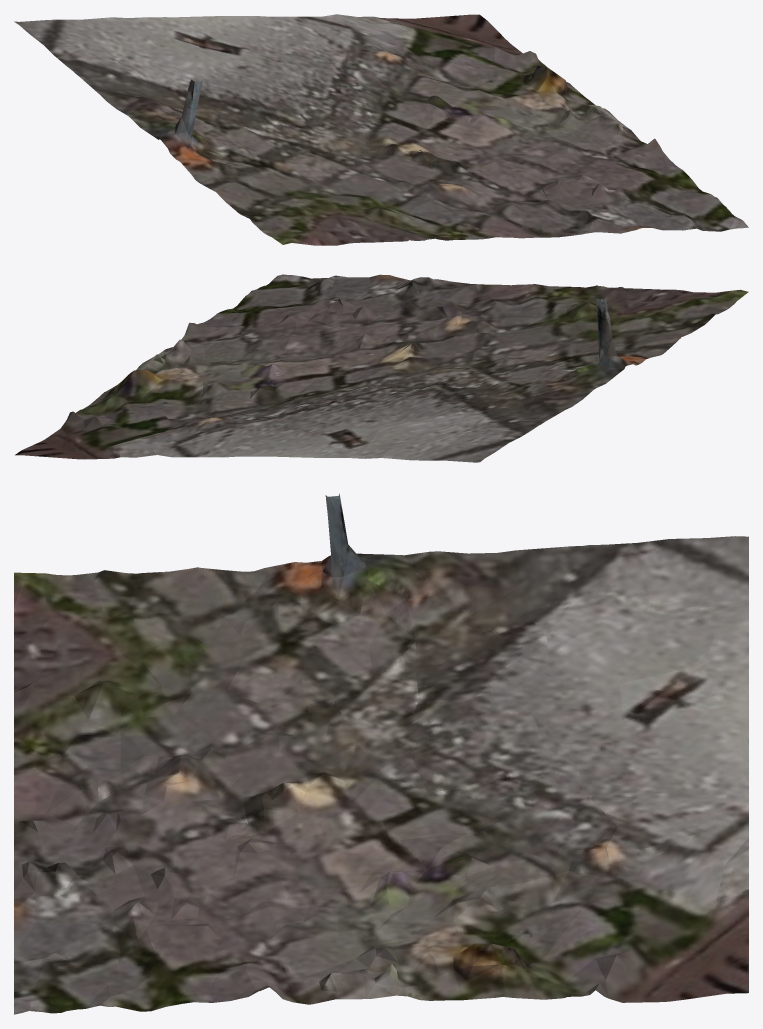
3 renders of one model, top to bottom at view 1: azimuth 30°, elevation 25°; view 2: azimuth 150°, elevation 25°; view 3: azimuth 270°, elevation 25°, orthographic. The views are drawn at different scales.
Bounding box in the file's own units: 0.8373 × 0.2898 × 0.8373.
Materials: 3 (3 with a texture image).
